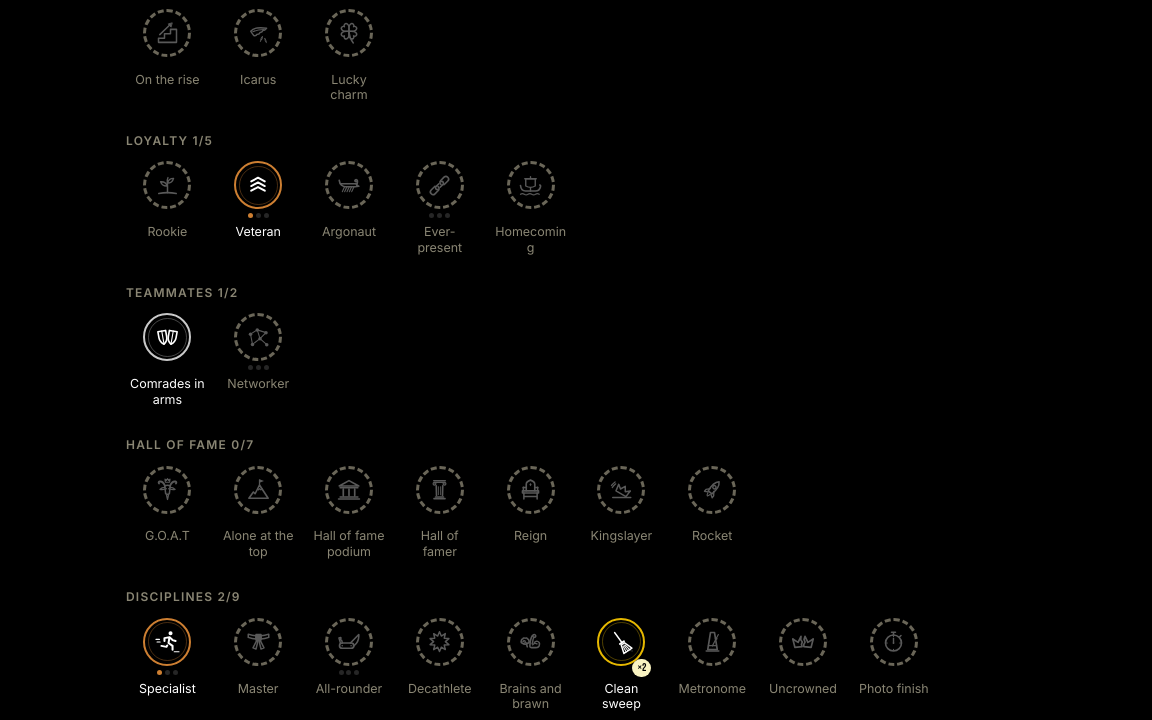
Test: player profile page › threads badge_stats down to the sheet's rarity line on the Badges tab
This screenshot has width=1152, height=720.
(page scrolled)
Click the button "Comrades in arms" at {"x": 167, "y": 360}, box x1=126 y1=309 x2=209 y2=411
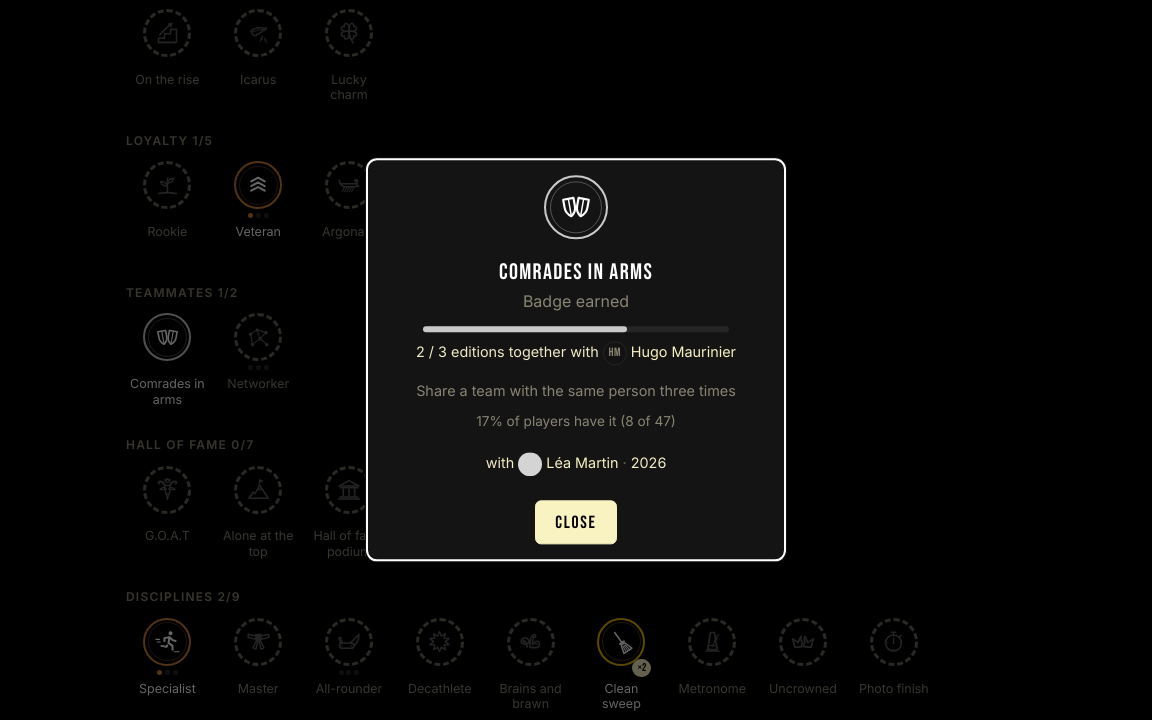
Check: the dialog "Comrades in arms" shows "17% of players have it (8 of 47)", box x1=476 y1=413 x2=676 y2=429
